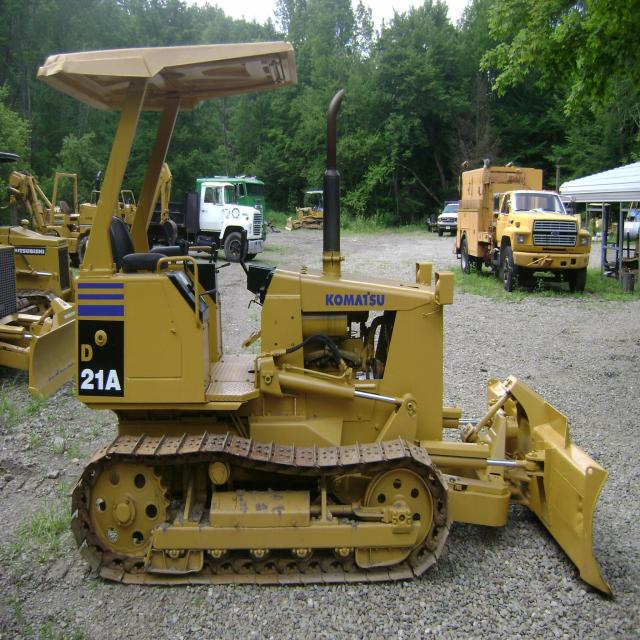Bulldozer: (33, 33, 622, 599)
